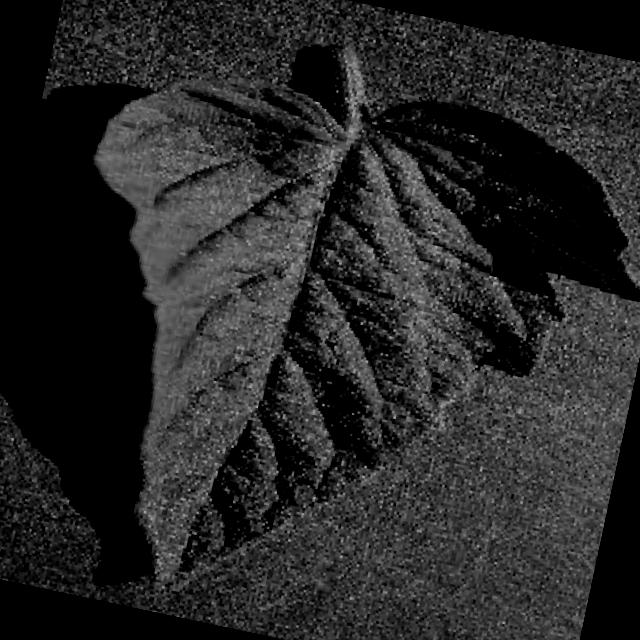healthy: (90, 49, 640, 604)
